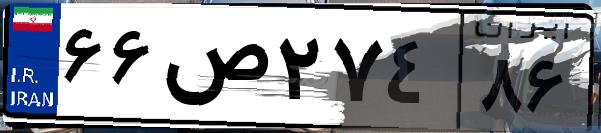2: (270, 28, 330, 110)
4: (385, 28, 445, 110)
6: (57, 26, 110, 100), (525, 38, 570, 115), (110, 28, 158, 98)
7: (330, 28, 385, 110)
8: (475, 38, 525, 113)
ص: (158, 20, 270, 120)
